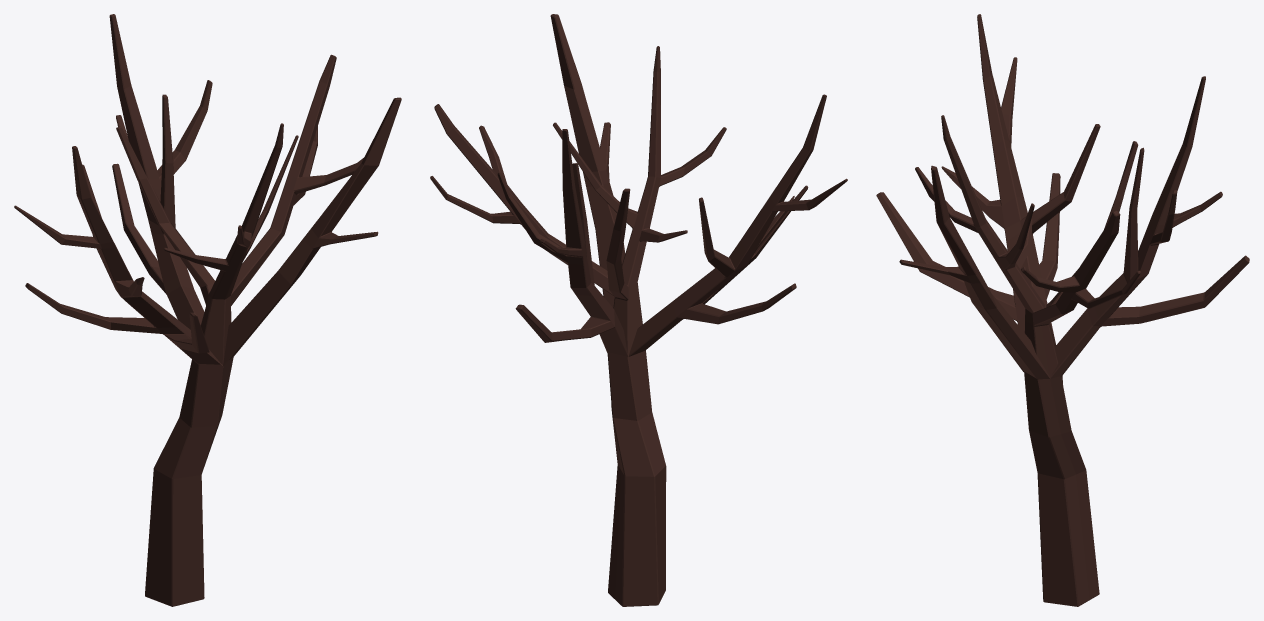
File: tree.glb
3 renders of one model, left to right at view 1: azimuth 30°, elevation 25°; view 2: azimuth 150°, elevation 25°; view 3: azimuth 270°, elevation 25°, orthographic. The views are drawn at different scales.
Parts seen in each view (by area): view 1: Circle; view 2: Circle; view 3: Circle.
Boxes of the visible parts, box(x1,y1,x2,y2) form: Circle: box(14, 14, 401, 606); Circle: box(430, 14, 847, 606); Circle: box(876, 14, 1249, 606).
Size of the model in its own units: 3.81 by 5.15 by 3.35.
